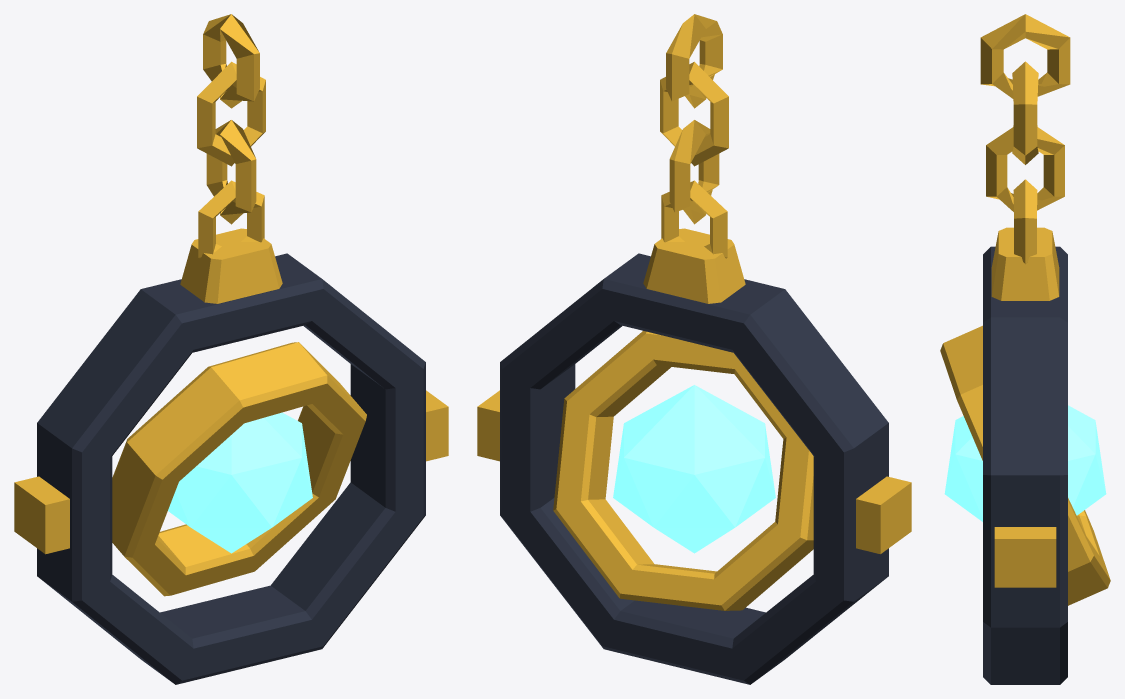
The model's file is ReactorCore.fbx.
3 views of the same model, side by side, from view 1: azimuth 30°, elevation 25°; view 2: azimuth 150°, elevation 25°; view 3: azimuth 270°, elevation 25° (orthographic).
Visible parts, largest first — view 1: Body_Core_Dark, Ring, Neon, Body_Core_Gold, Chain; view 2: Body_Core_Dark, Ring, Neon, Body_Core_Gold, Chain; view 3: Body_Core_Dark, Chain, Body_Core_Gold, Ring, Neon.
Boxes of the visible parts, x1,y1,x2,y2 form: Body_Core_Dark: (37, 253, 425, 684); Ring: (112, 342, 366, 596); Neon: (168, 412, 312, 553); Body_Core_Gold: (14, 180, 448, 554); Chain: (197, 14, 265, 224); Body_Core_Dark: (500, 253, 888, 684); Ring: (553, 331, 813, 610); Neon: (613, 385, 775, 553); Body_Core_Gold: (477, 180, 911, 554); Chain: (660, 14, 728, 224); Body_Core_Dark: (983, 246, 1067, 684); Chain: (980, 14, 1070, 211); Body_Core_Gold: (991, 179, 1059, 587); Ring: (940, 325, 1110, 605); Neon: (944, 405, 1106, 521).
Size of the model in its own units: 0.24 by 0.3643 by 0.0886.
